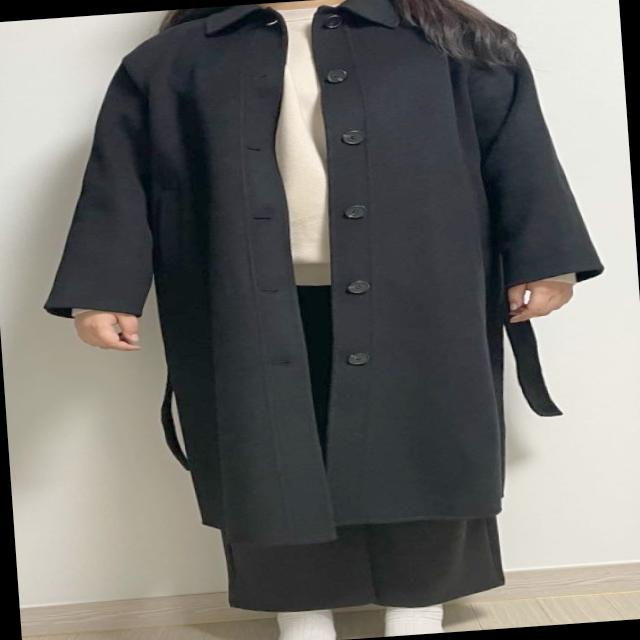coat: (22, 0, 616, 559)
